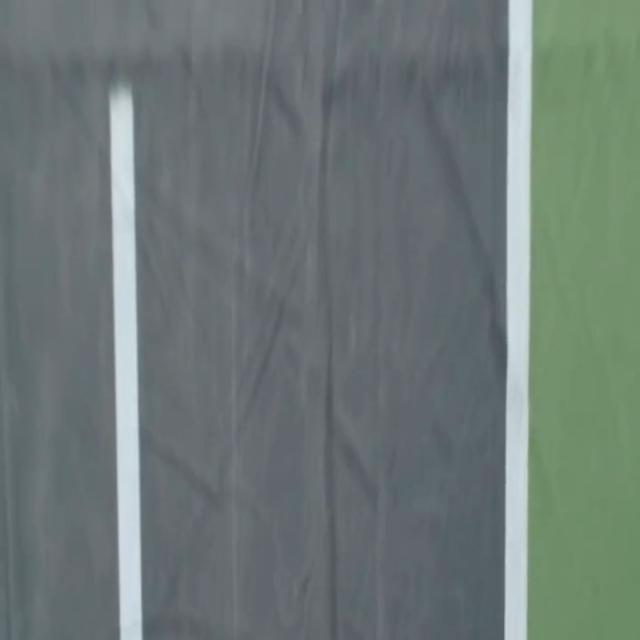center: (109, 84, 141, 639)
right: (505, 0, 532, 639)
